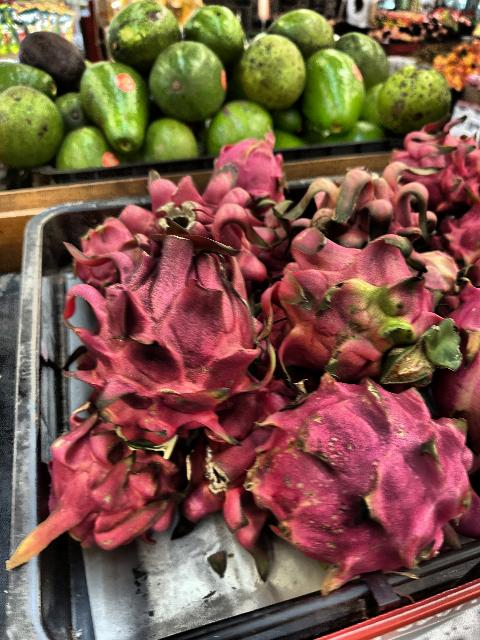buah-naga-belum-matang: (262, 235, 458, 383)
buah-naga-matang: (250, 379, 478, 579), (67, 208, 257, 438), (36, 404, 178, 572), (103, 170, 272, 272), (179, 394, 289, 530), (288, 166, 420, 250), (388, 120, 468, 220), (440, 263, 480, 423), (212, 133, 294, 197)
